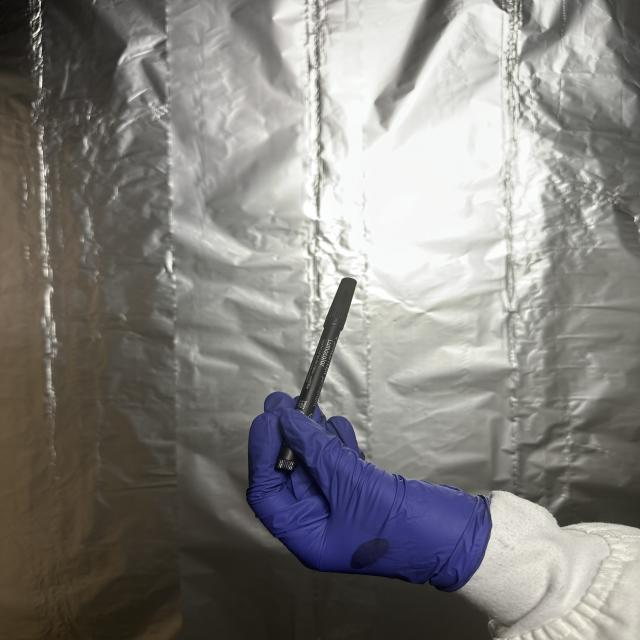gloves_contaminated: (246, 392, 492, 591)
